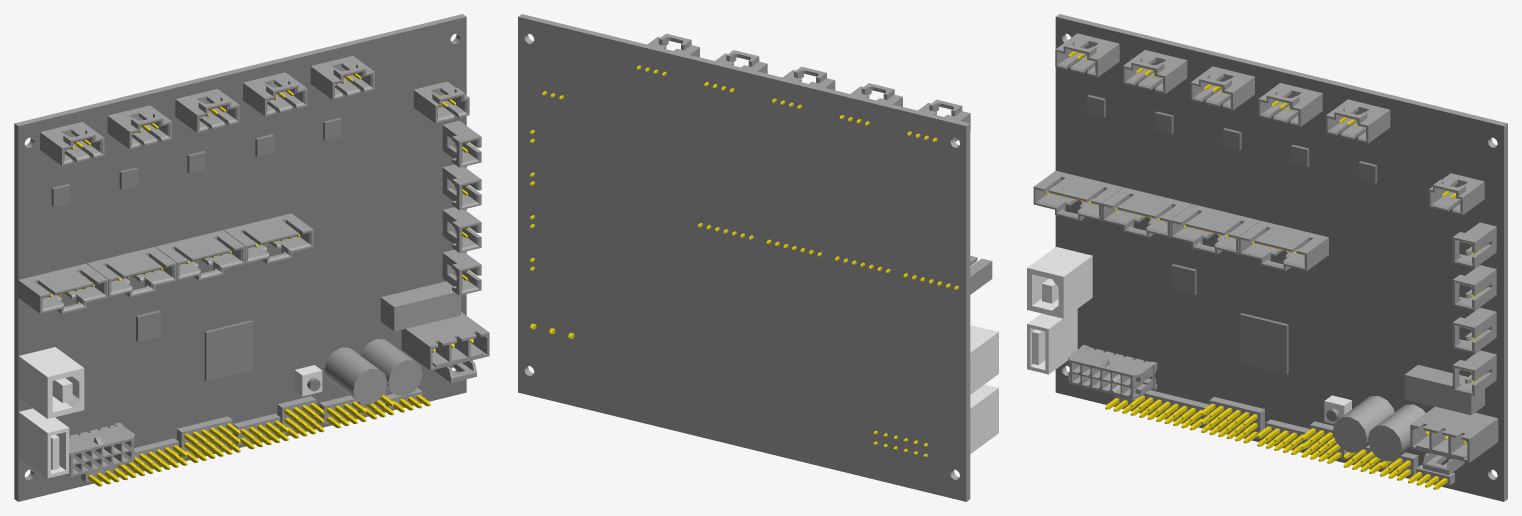
The model's file is farmduino.glb.
The picture shows the model from 3 angles, left to right: view 1: azimuth 30°, elevation 25°; view 2: azimuth 150°, elevation 25°; view 3: azimuth 330°, elevation 25°; orthographic projection.
Visible parts, largest first — view 1: Farmduino; view 2: Farmduino; view 3: Farmduino.
Boxes of the visible parts, x1,y1,x2,y2 form: Farmduino: [14, 14, 489, 501]; Farmduino: [518, 14, 998, 501]; Farmduino: [1027, 14, 1507, 501].
Bounding box in the file's own units: 0.1343 × 0.1075 × 0.0207.
Materials: 1 (1 with a texture image).
